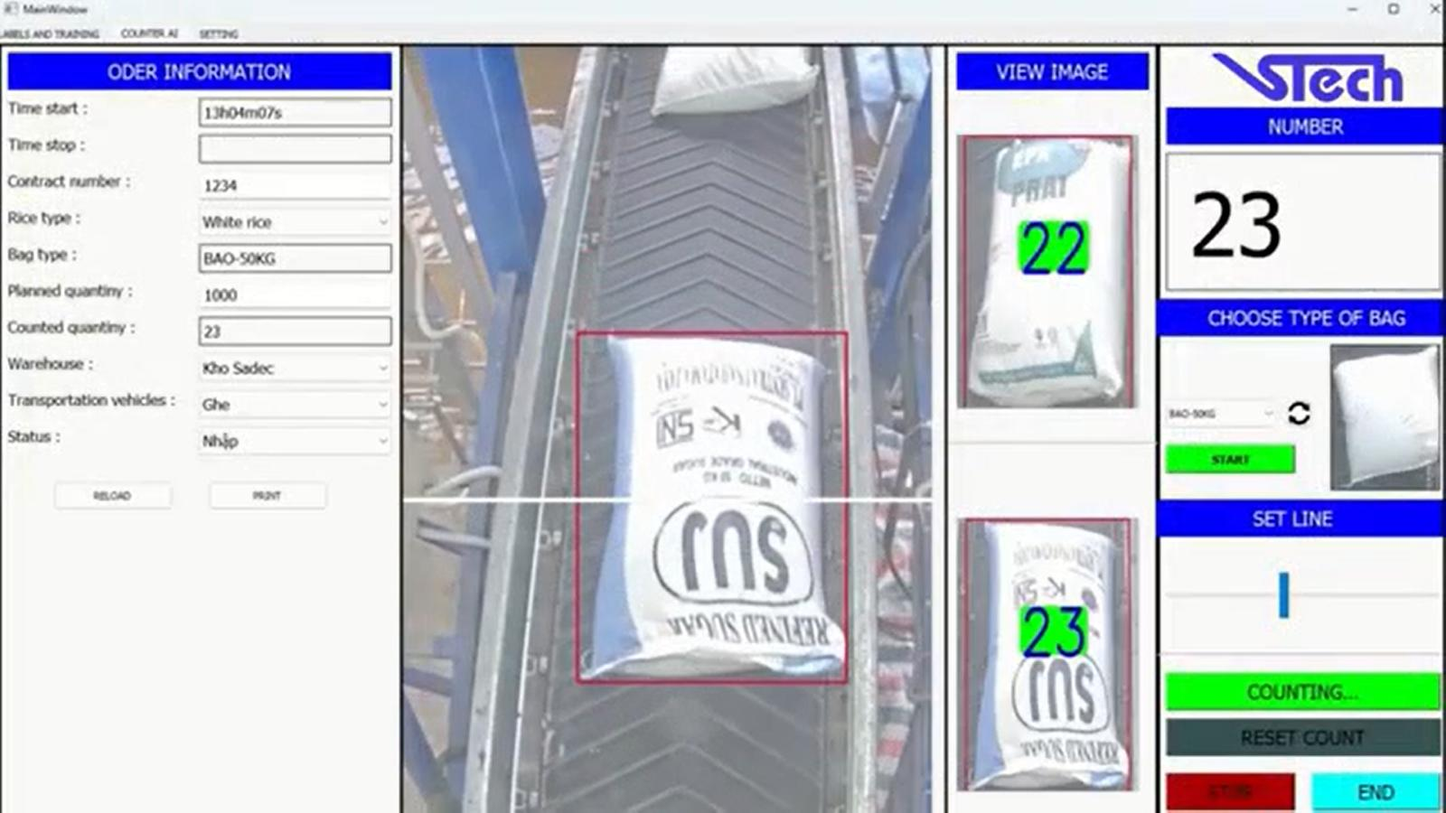rice-bag: (590, 337, 846, 678), (964, 138, 1132, 406), (972, 523, 1129, 789)
